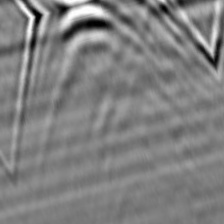Utility: (16, 1, 215, 76)
